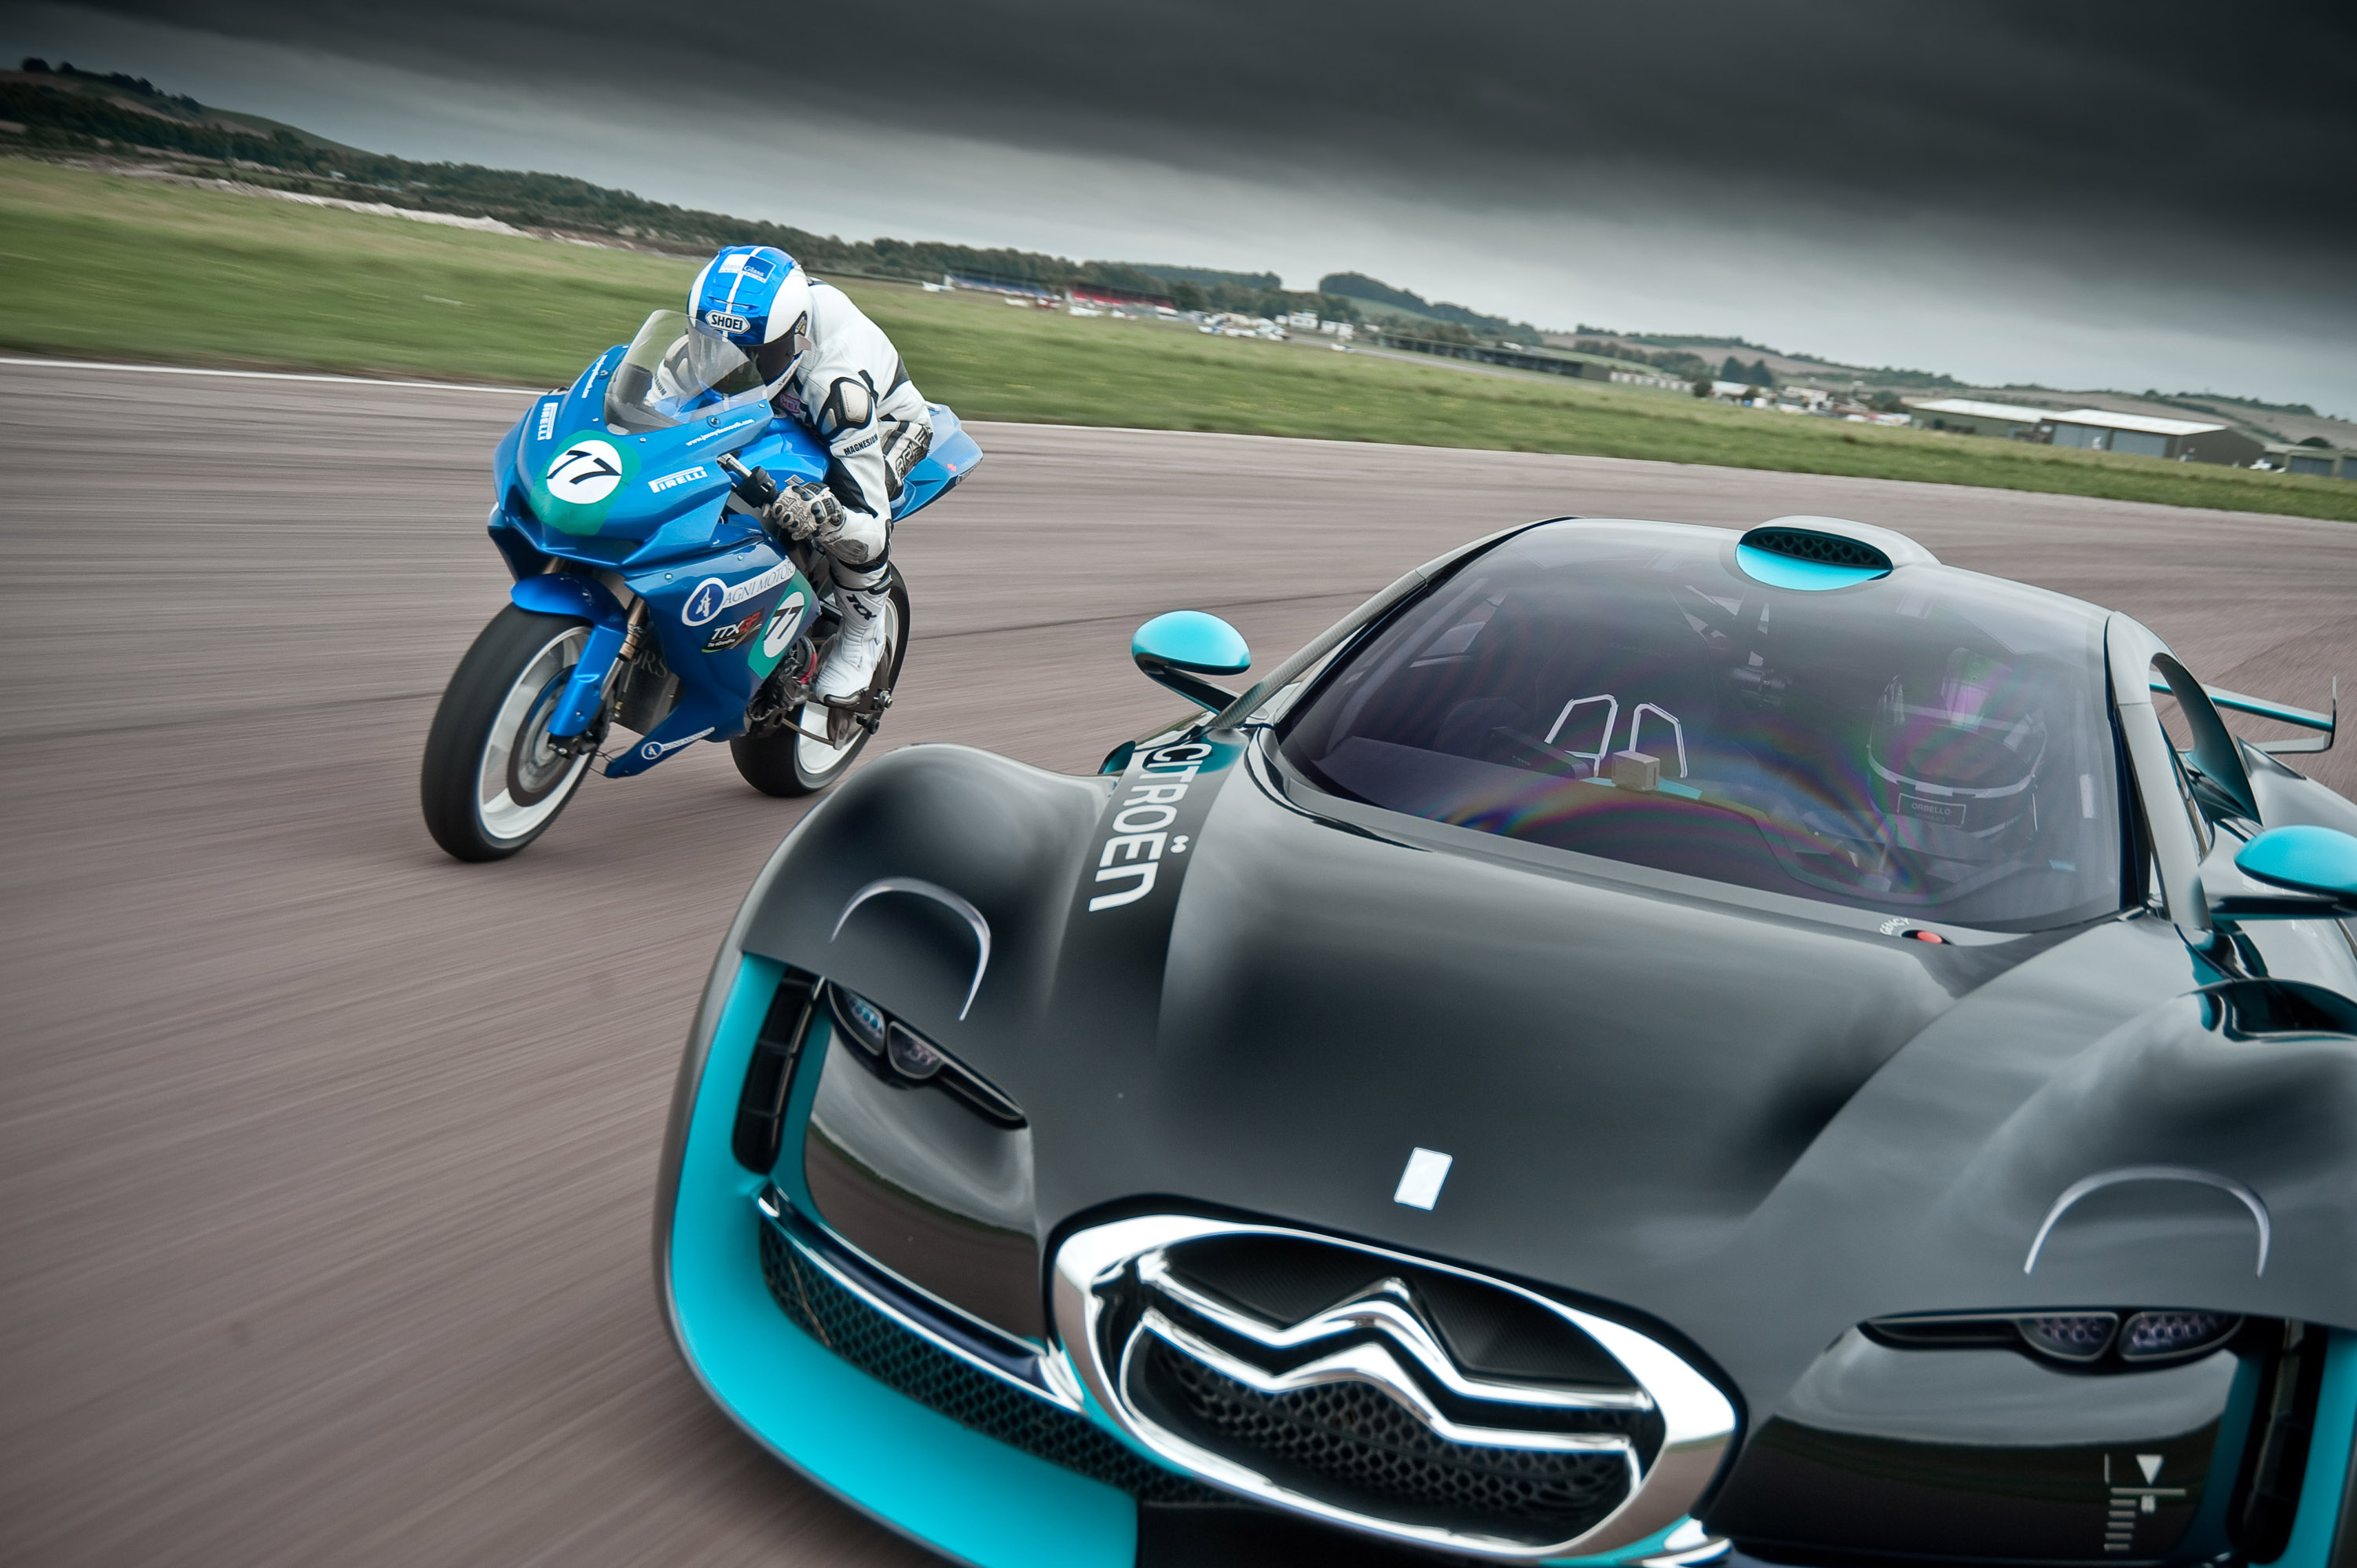car: (607, 492, 2352, 1556)
motorcycle: (353, 229, 999, 868)
